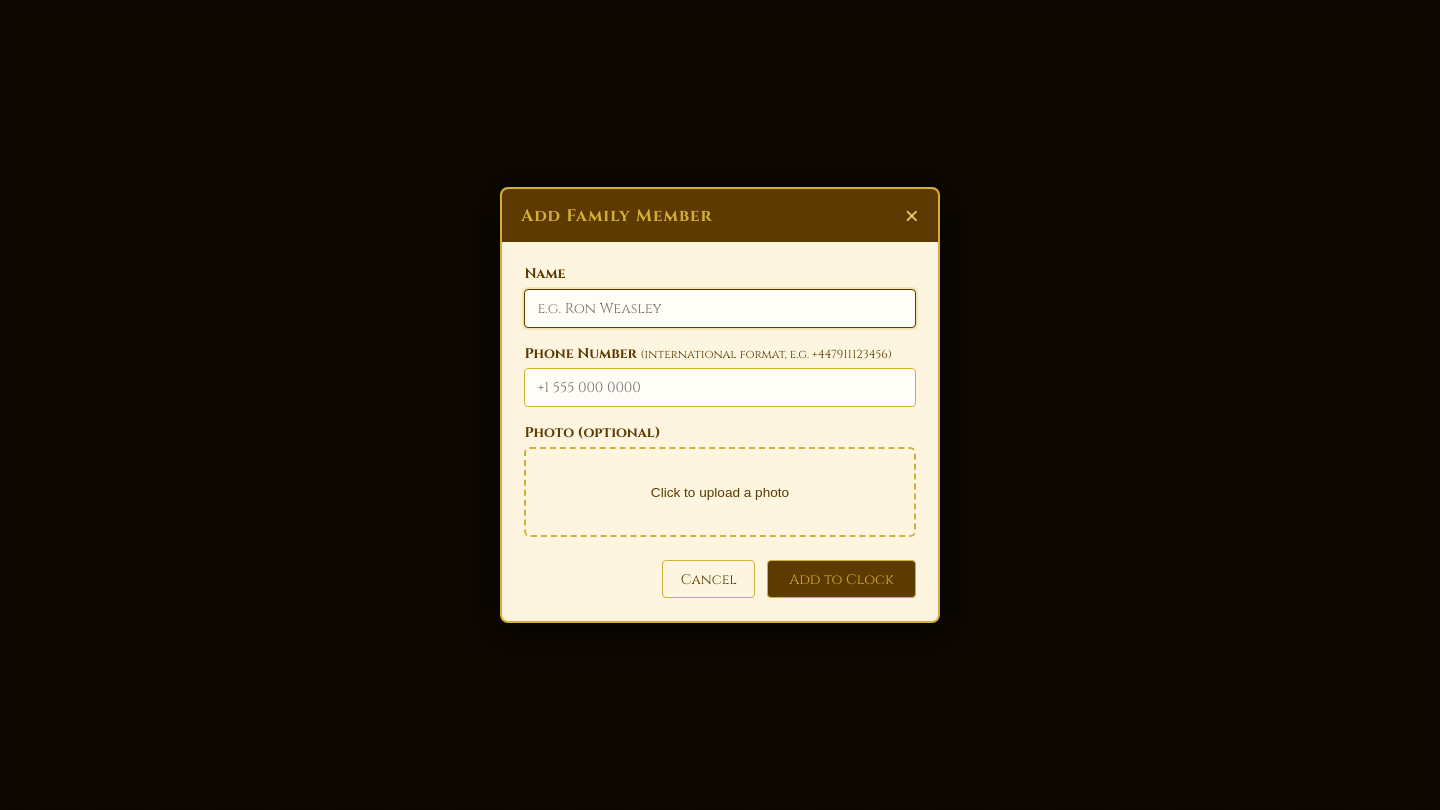
Test case: AddPersonModal › validation › shows error when submitted with empty name
Click the button "Add to Clock": click(842, 579) [767, 560, 916, 598]
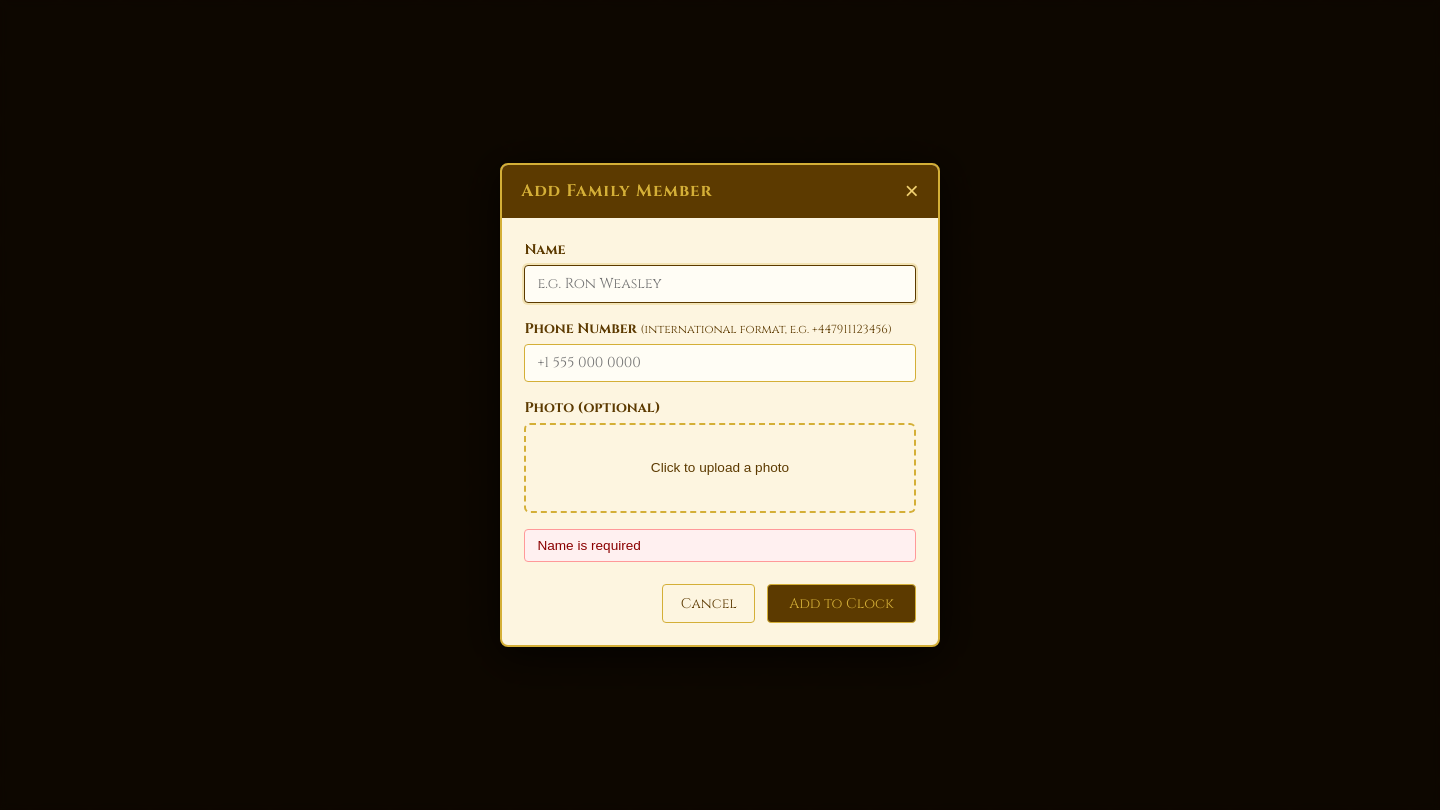
Check: the text "Name is required" is shown, box [524, 529, 916, 562]
